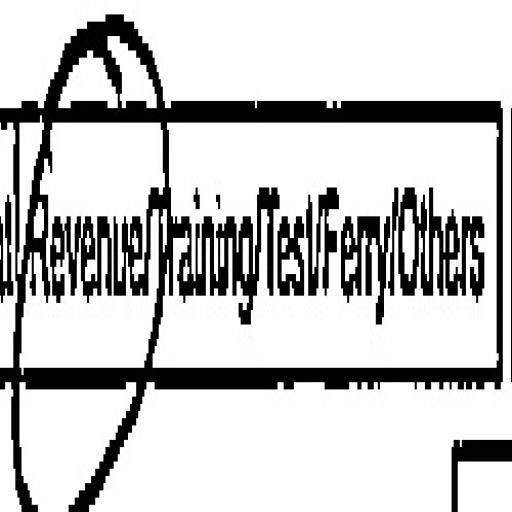check: (8, 0, 158, 512)
